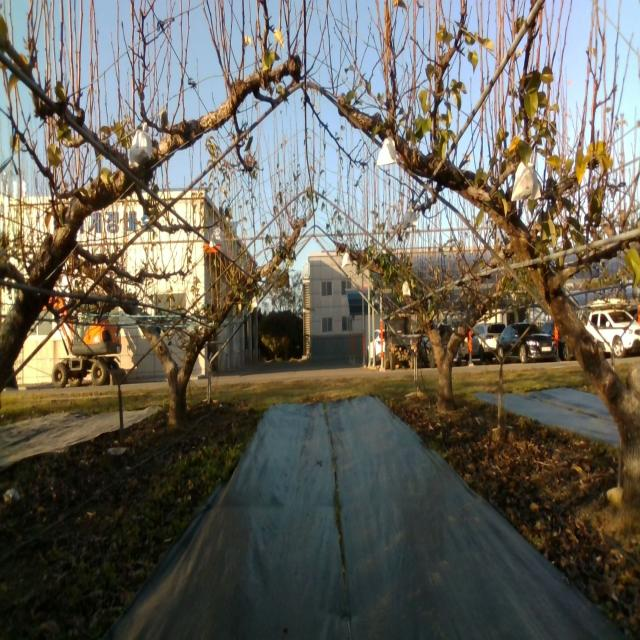pearbags: (510, 161, 541, 202), (129, 129, 153, 168), (376, 135, 397, 166), (402, 204, 418, 232), (208, 227, 226, 251)
